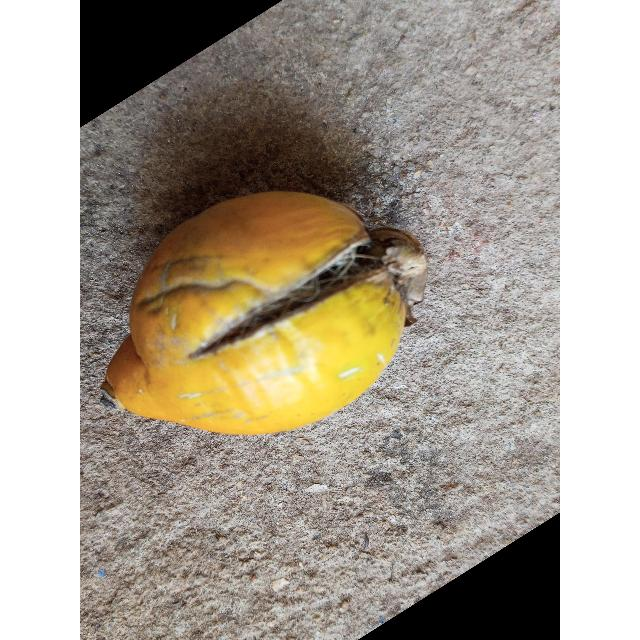damaged: (99, 191, 427, 439)
